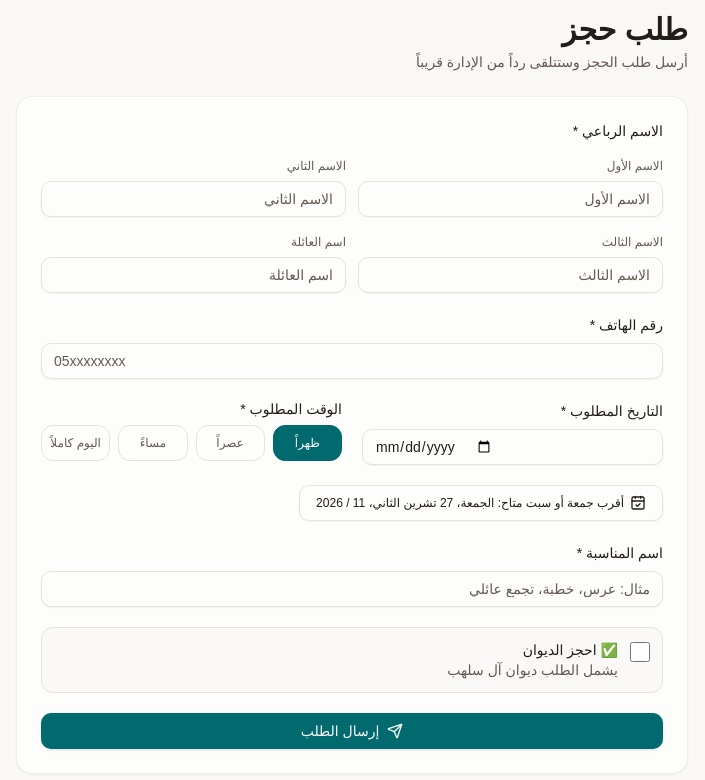
Scenario: RequestPage › shows the Islamic date warning for a holiday
This screenshot has width=705, height=780.
Type "2026-05-26" into the date field labelled "التاريخ المطلوب *".
click(512, 447); type("2026-05-26")  # box x1=362 y1=429 x2=663 y2=465
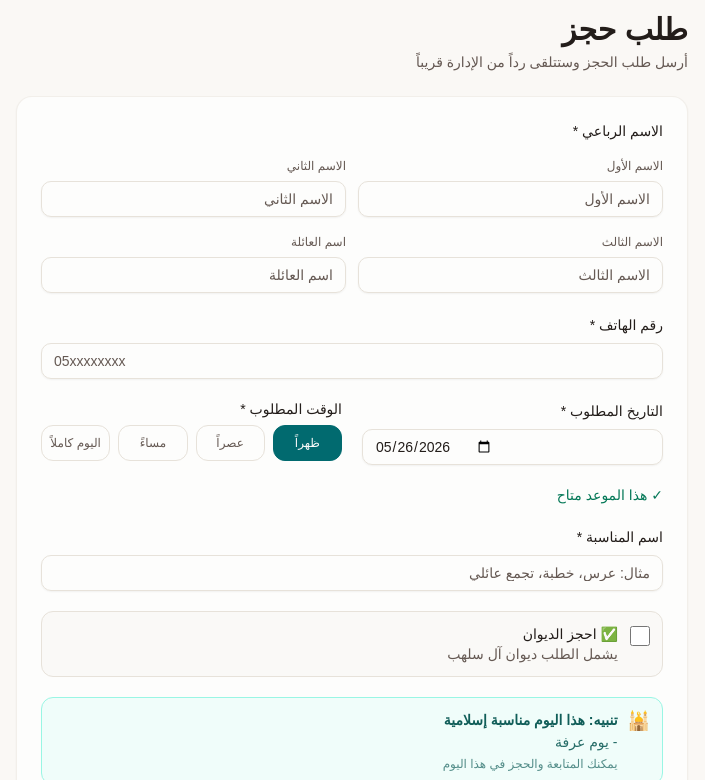
Now the text "تنبيه: هذا اليوم مناسبة إسلامية" is shown, box x1=443 y1=710 x2=618 y2=730
